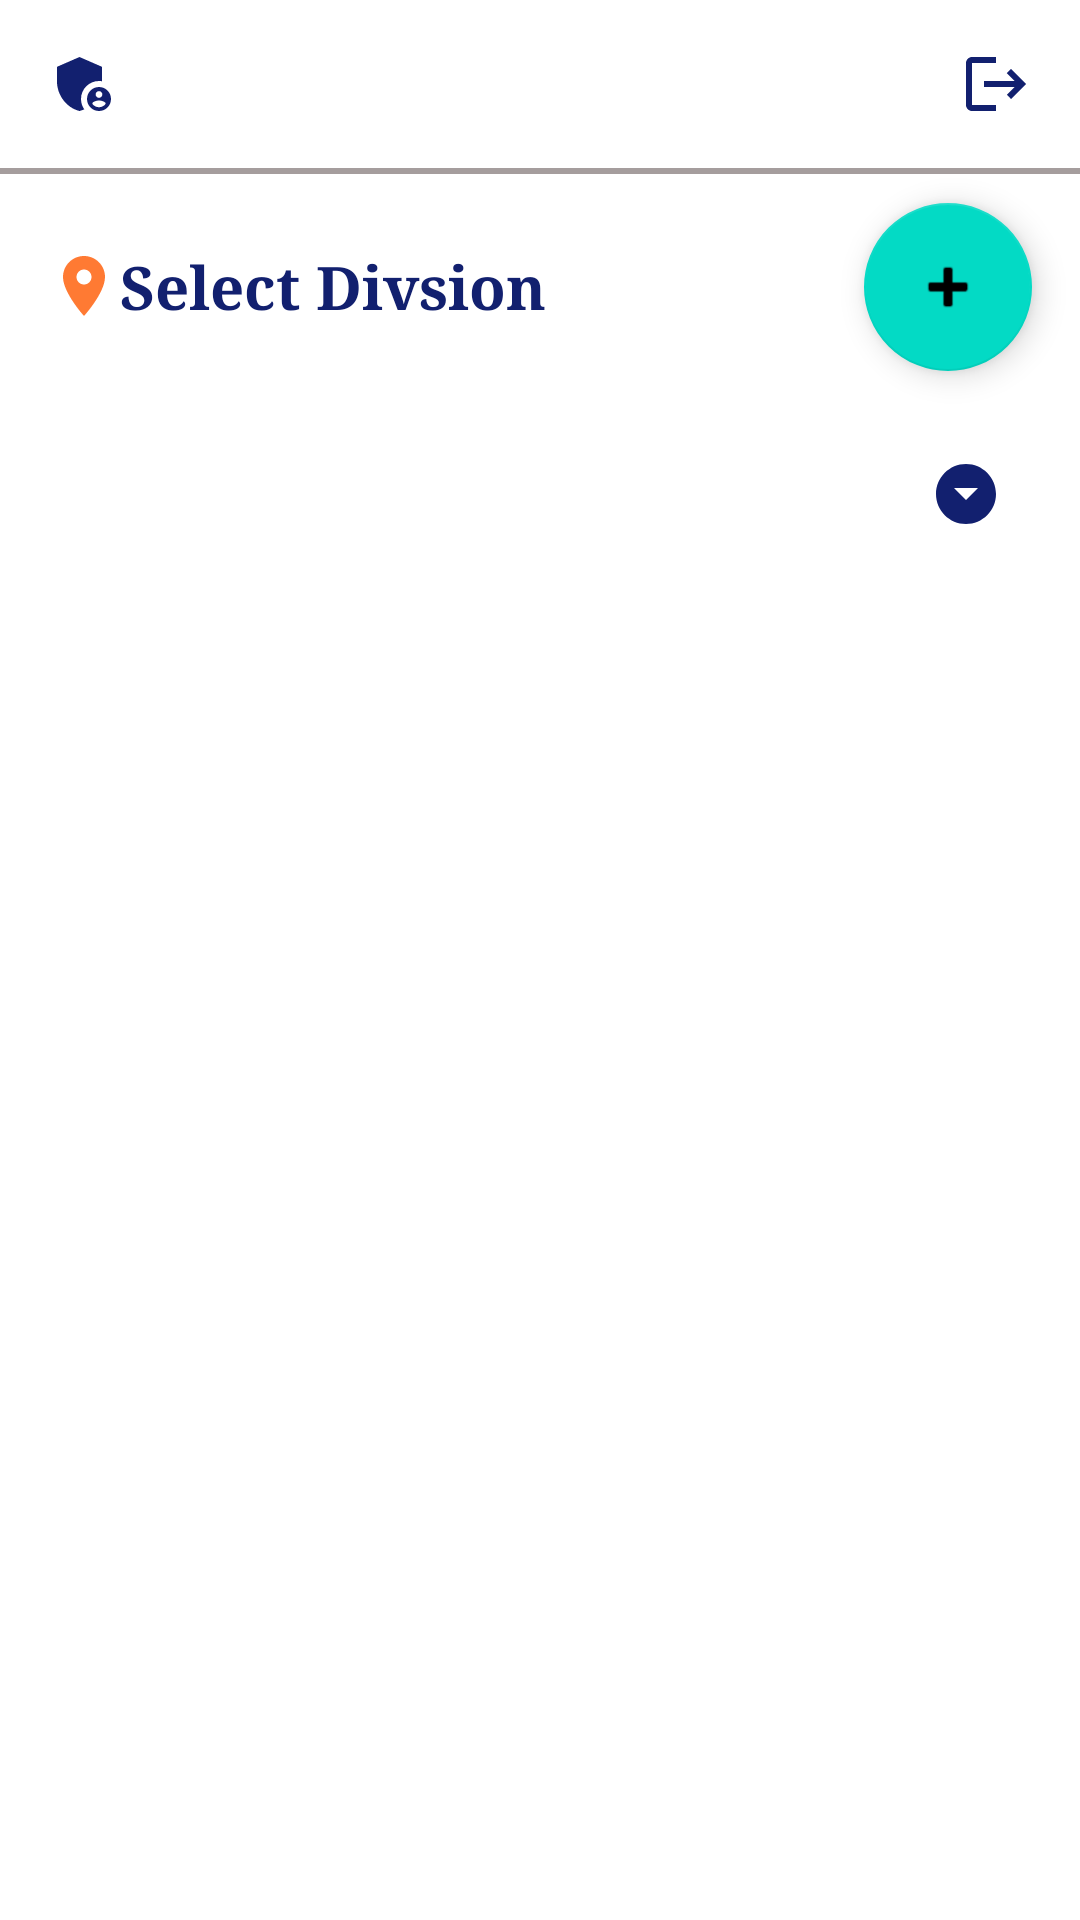

Point at icon controls on the screen. Image size 1080*1920, points as (x=x, y=y).
add: (x=948, y=287)
